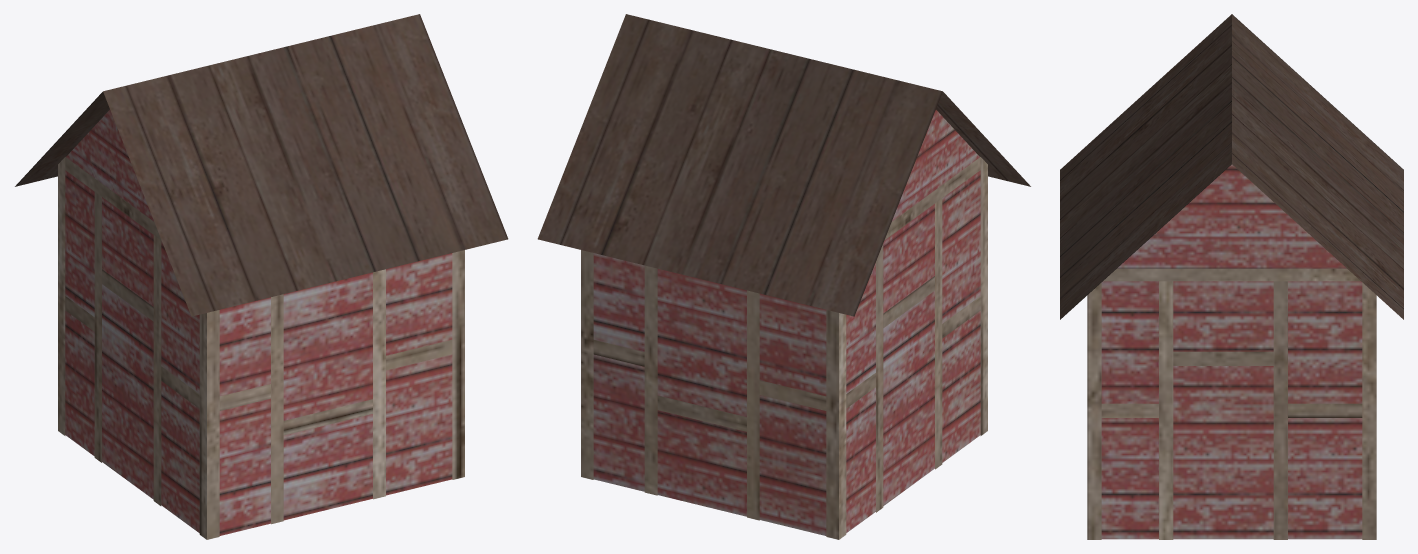
Rendered from building001.fbx.
3 views of the same model, side by side, from view 1: azimuth 30°, elevation 25°; view 2: azimuth 150°, elevation 25°; view 3: azimuth 270°, elevation 25° (orthographic). The views are drawn at different scales.
Visible parts, largest first — view 1: Cube; view 2: Cube; view 3: Cube.
Part boxes in pixels (<box>): Cube: <box>15,14,508,539</box>; Cube: <box>537,14,1030,539</box>; Cube: <box>1060,14,1403,539</box>.
Bounding box in the file's own units: 248 × 300 × 240.
